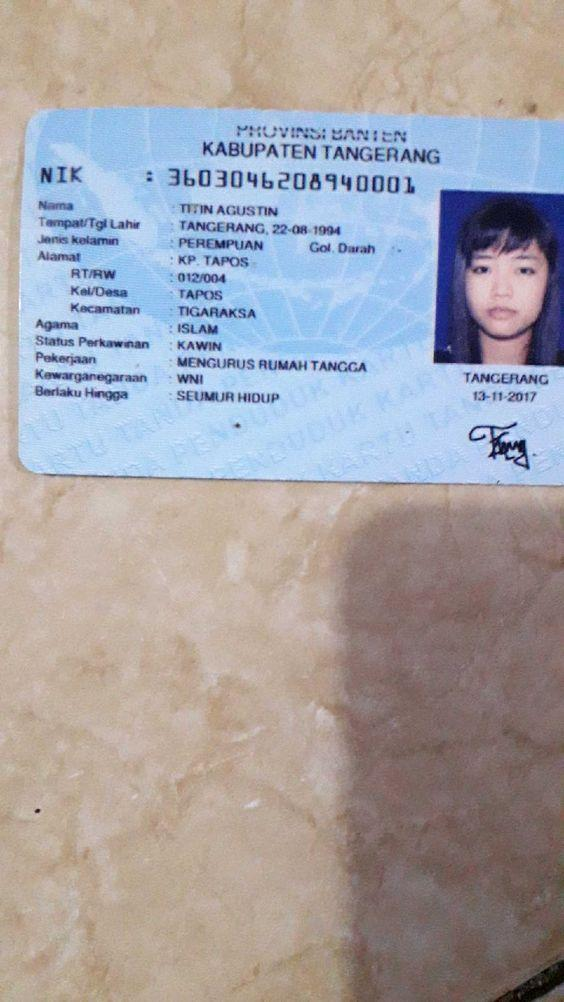ID-card: (20, 111, 558, 481)
